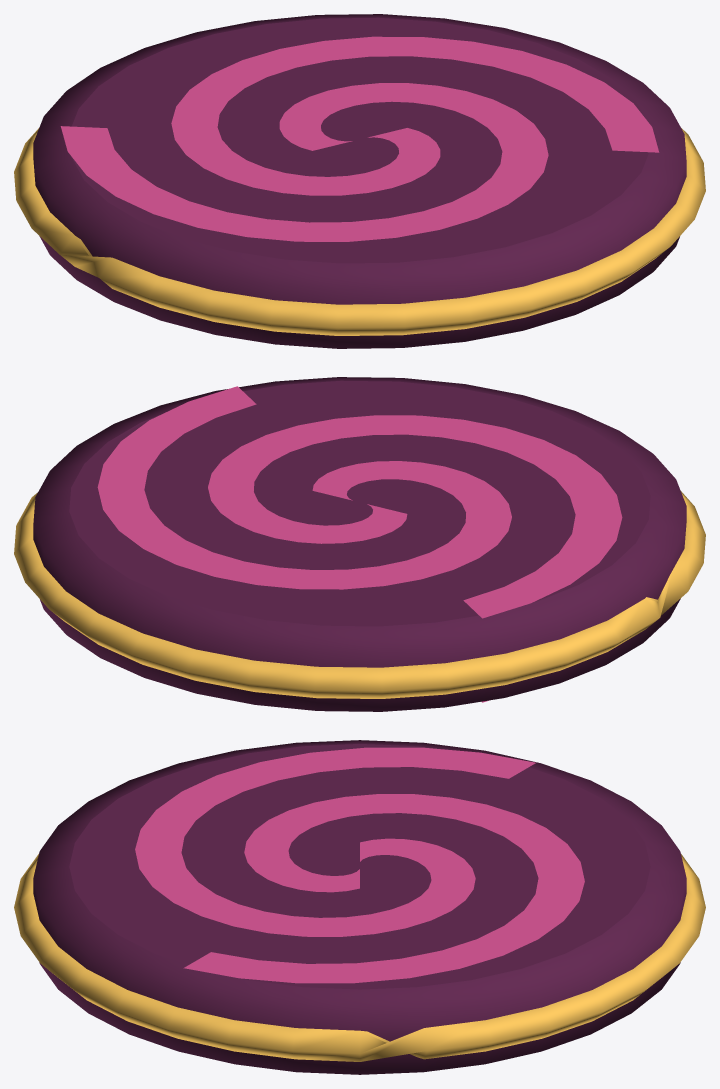
Rendered from toy-disc.glb.
3 views of the same model, one above another, from view 1: azimuth 30°, elevation 25°; view 2: azimuth 150°, elevation 25°; view 3: azimuth 270°, elevation 25° (orthographic).
Parts seen in each view (by area): view 1: toy_disc; view 2: toy_disc; view 3: toy_disc.
Part boxes in pixels (x1,y1,x2,y2): toy_disc: (14, 14, 705, 348); toy_disc: (14, 377, 705, 711); toy_disc: (14, 740, 705, 1074).
Size of the model in its own units: 1 by 0.134 by 1.
